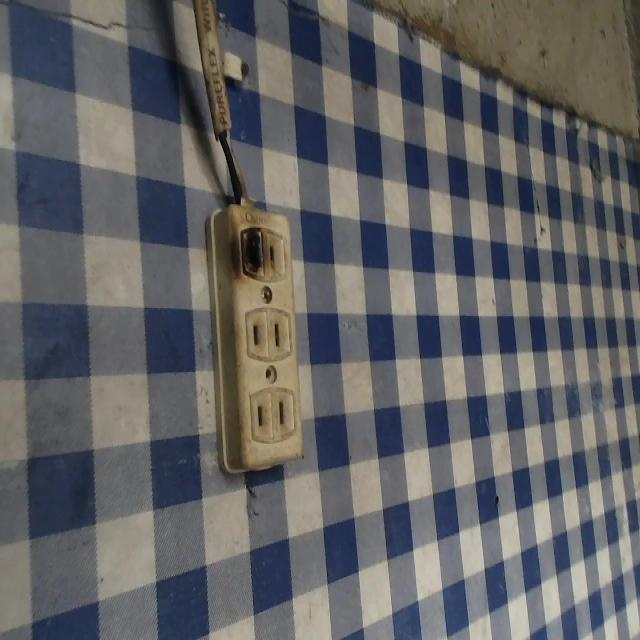-: (225, 216, 274, 285)
